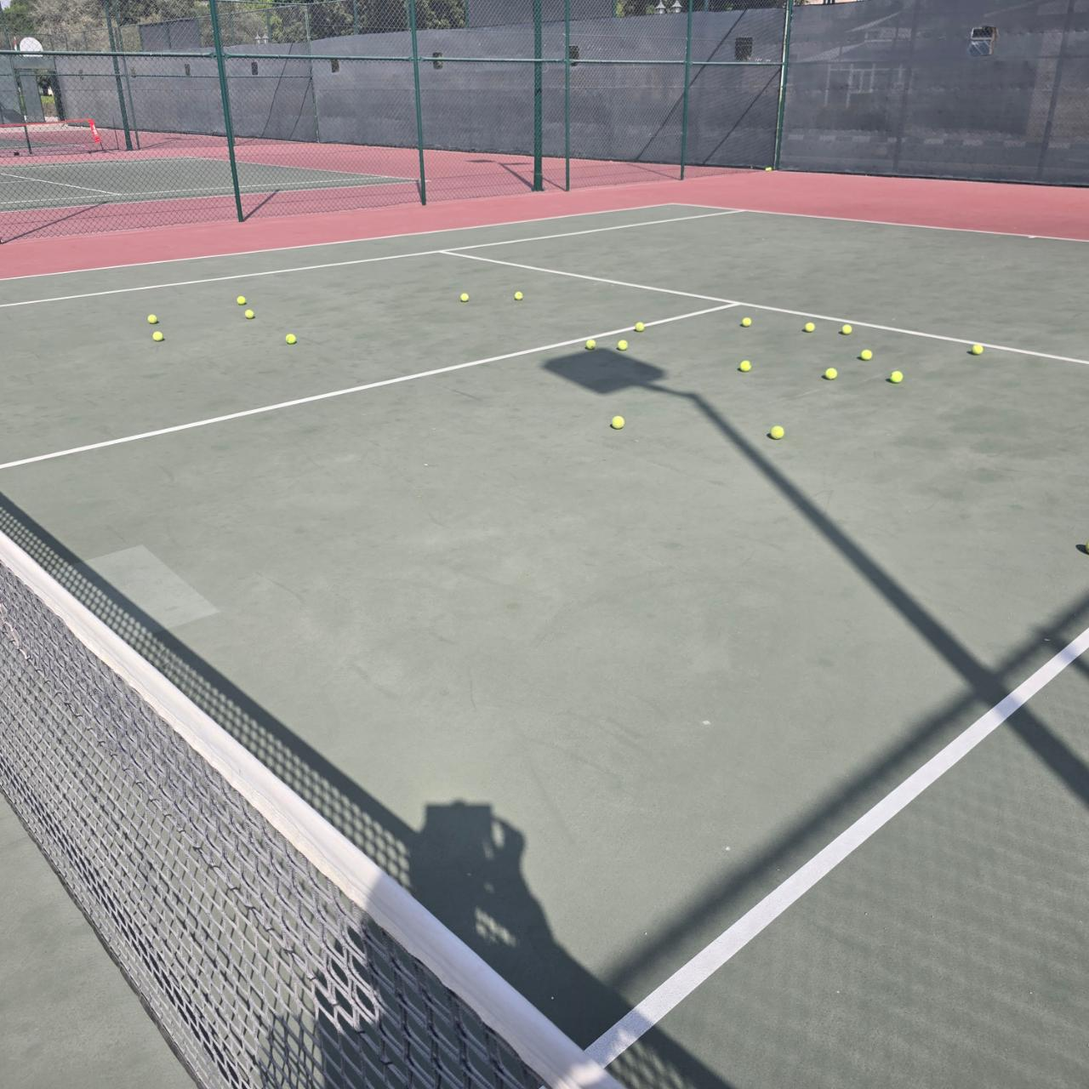tennis-ball: (767, 423, 784, 439), (609, 413, 624, 429), (967, 341, 983, 356), (888, 368, 903, 383), (822, 365, 837, 379), (736, 358, 750, 372), (857, 347, 872, 360), (615, 337, 628, 351), (283, 331, 297, 344), (801, 320, 815, 333), (151, 329, 164, 342), (583, 337, 596, 350), (145, 311, 158, 324), (632, 320, 645, 332), (242, 307, 255, 319), (739, 315, 751, 327), (234, 293, 246, 305), (458, 290, 470, 302), (512, 288, 523, 300), (841, 324, 852, 336), (765, 167, 772, 173)
